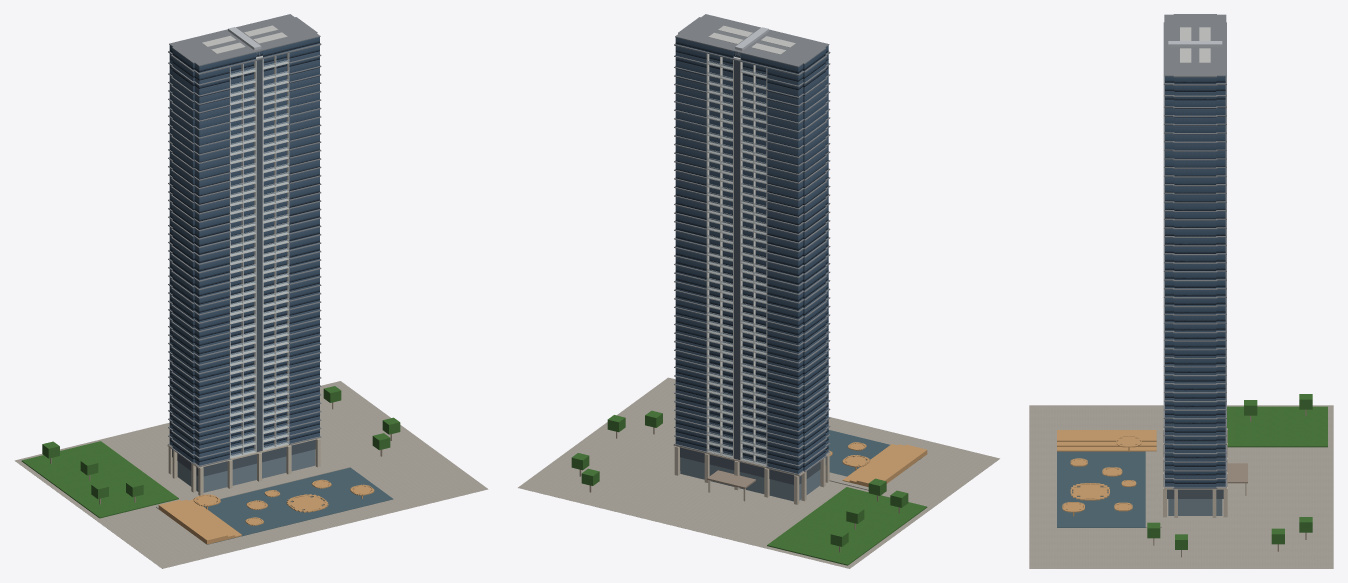
The model's file is Lake_Tower_Grand_Marina_Saigon.glb.
The picture shows the model from 3 angles, left to right: view 1: azimuth 30°, elevation 25°; view 2: azimuth 150°, elevation 25°; view 3: azimuth 270°, elevation 25°; orthographic projection. The views are drawn at different scales.
Visible parts, largest first — view 1: Tower_CurtainWall, Site_LotusPark, Loggias_WhiteFrame, Slab_Fins, Crown_Roof, Podium_G_L1, Structure_Cores; view 2: Tower_CurtainWall, Site_LotusPark, Loggias_WhiteFrame, Slab_Fins, Podium_G_L1, Crown_Roof, Structure_Cores; view 3: Site_LotusPark, Tower_CurtainWall, Slab_Fins, Crown_Roof, Podium_G_L1, Structure_Cores.
Part boxes in pixels (x1,y1,x2,y2): Tower_CurtainWall: (169, 45, 319, 465); Site_LotusPark: (14, 381, 488, 568); Loggias_WhiteFrame: (229, 53, 289, 458); Slab_Fins: (168, 43, 321, 466); Crown_Roof: (169, 14, 320, 72); Podium_G_L1: (167, 437, 321, 495); Structure_Cores: (202, 25, 287, 53); Tower_CurtainWall: (675, 46, 828, 473); Site_LotusPark: (518, 377, 999, 568); Loggias_WhiteFrame: (706, 53, 767, 466); Slab_Fins: (674, 43, 830, 475); Podium_G_L1: (673, 444, 830, 504); Crown_Roof: (675, 14, 829, 74); Structure_Cores: (708, 25, 795, 54); Site_LotusPark: (1029, 394, 1333, 568); Tower_CurtainWall: (1165, 85, 1225, 487); Slab_Fins: (1163, 22, 1226, 488); Crown_Roof: (1164, 14, 1226, 84); Podium_G_L1: (1163, 428, 1247, 517); Structure_Cores: (1180, 27, 1210, 62).
Size of the model in its own units: 140 by 178 by 110.
16 materials, 5 textured.
